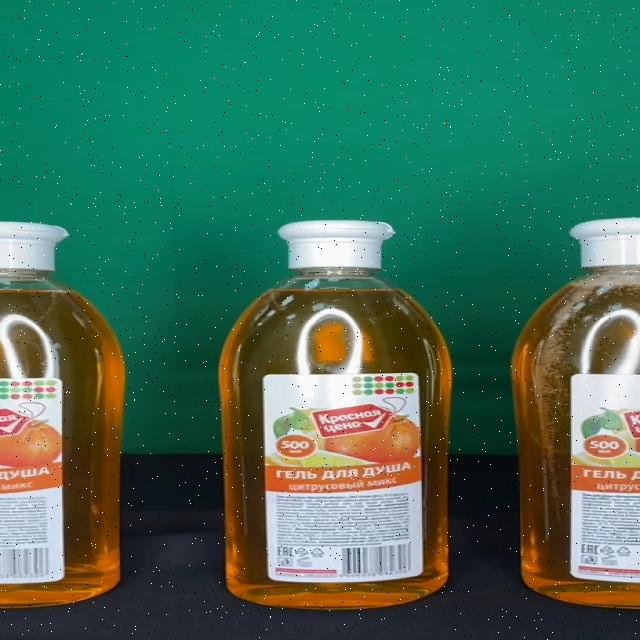Bottle: (219, 220, 453, 610)
Cap: (275, 220, 395, 270)
